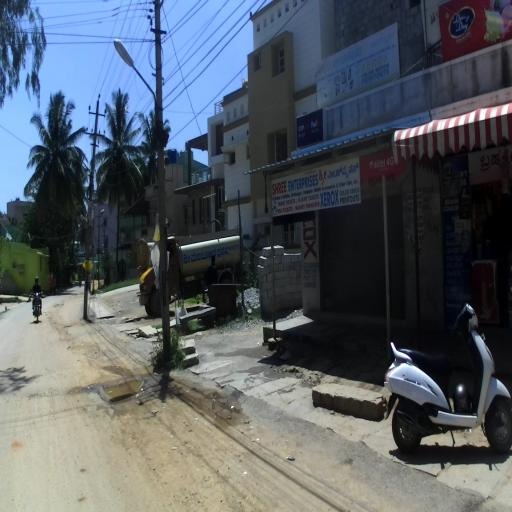street_light_0: (114, 39, 164, 126), (94, 210, 104, 218), (80, 215, 88, 223), (82, 251, 86, 255)
